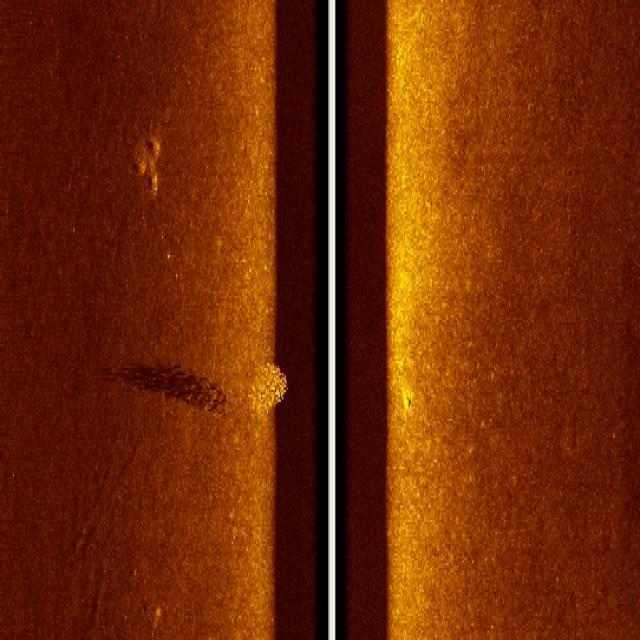other: (223, 318, 299, 442), (117, 77, 176, 212)
